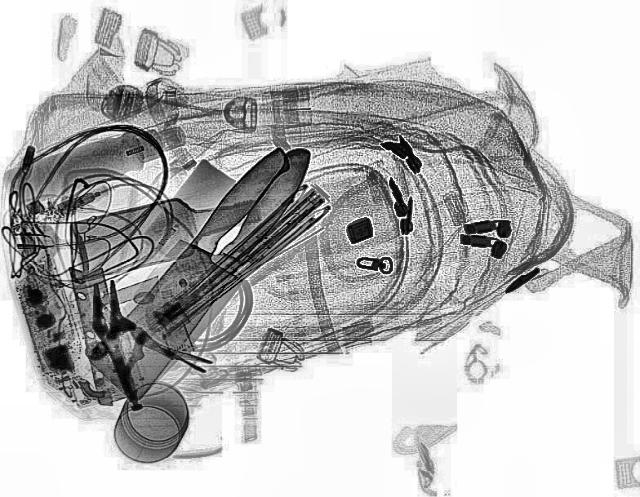Knife: (72, 129, 334, 402), (69, 143, 338, 402)
